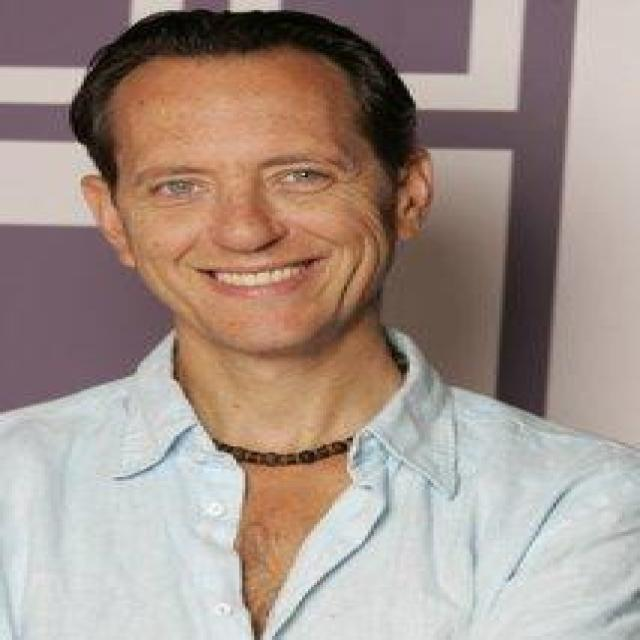0_rostro_limpio: (100, 25, 415, 358)
